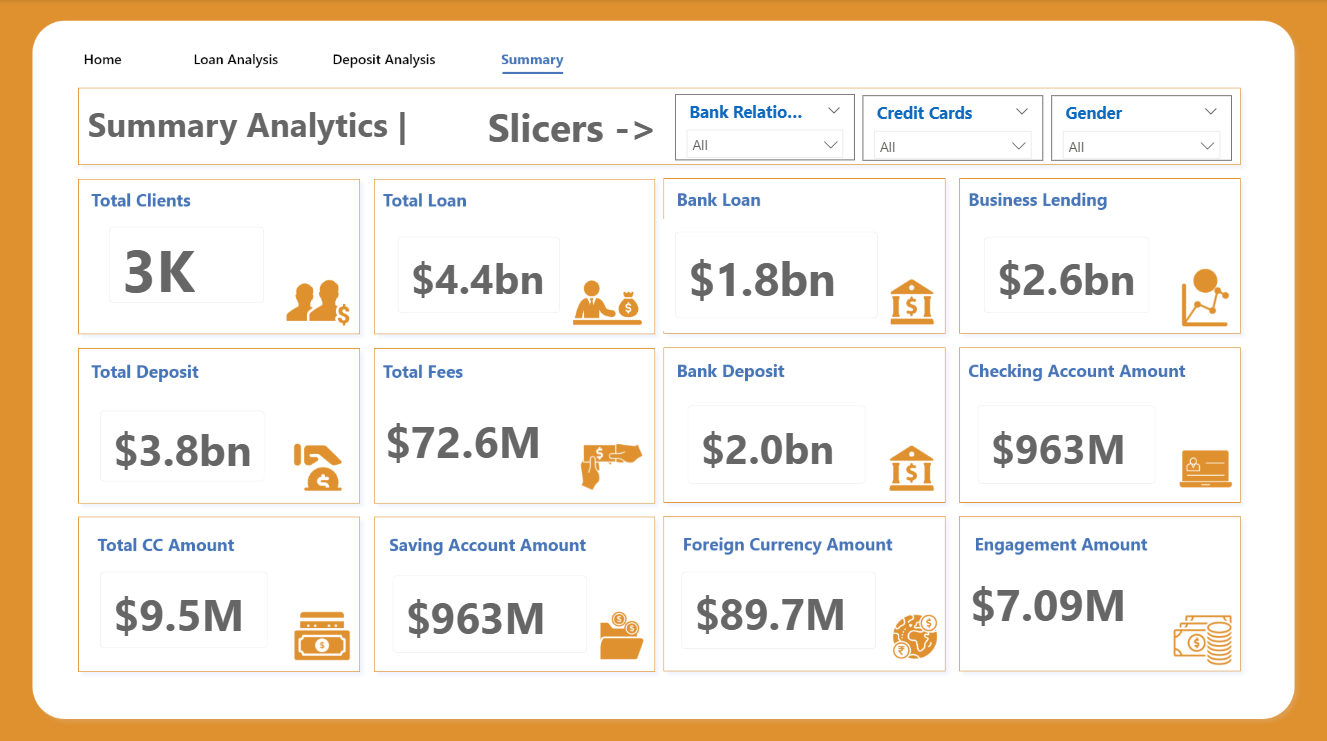

This screenshot's page, from the dashboard's own definition file:
{"tool":"powerbi","page":{"name":"Summary","canvas":[1280,720],"ordinal":3},"visuals":[{"type":"textbox","box":[79.2,94.3,386,61.6],"z":0},{"type":"textbox","box":[465.2,93,186.1,61.6],"z":1},{"type":"slicer","fields":{"Values":["project bank.Bank Relationship"]},"box":[651.3,91.8,173.5,64.1],"z":2},{"type":"slicer","fields":{"Values":["project bank.Amount of Credit Cards"]},"box":[832.4,93,174,62.9],"z":3},{"type":"slicer","fields":{"Values":["project bank.GenderId"]},"box":[1014.7,93,174,62.9],"z":4},{"type":"cardVisual","fields":{"Data":["CountNonNull(project bank.Name)"]},"box":[88,202.4,184.8,108.1],"z":5},{"type":"cardVisual","fields":{"Data":["project bank.Total Loan"]},"box":[367.2,212.5,191.1,108.1],"z":6},{"type":"cardVisual","fields":{"Data":["Sum(project bank.Bank Loans)"]},"box":[640,212.5,220,108.1],"z":7},{"type":"cardVisual","fields":{"Data":["Sum(project bank.Business Lending)"]},"box":[933,212.5,194.9,108.1],"z":8},{"type":"cardVisual","fields":{"Data":["project bank.Total Deposit"]},"box":[79.2,379.7,193.6,103.1],"z":9},{"type":"textbox","box":[367.2,392.3,181.1,90.5],"z":10},{"type":"cardVisual","fields":{"Data":["Sum(project bank.Bank Deposits)"]},"box":[651.3,379.7,196.1,100.6],"z":11},{"type":"cardVisual","fields":{"Data":["Sum(project bank.Checking Accounts)"]},"box":[931.7,379.7,196.1,100.6],"z":12},{"type":"cardVisual","fields":{"Data":["Sum(project bank.Credit Card Balance)"]},"box":[79.2,535.6,196.1,108.1],"z":13},{"type":"cardVisual","fields":{"Data":["Sum(project bank.Checking Accounts)"]},"box":[367.2,544.4,212.5,99.3],"z":14},{"type":"cardVisual","fields":{"Data":["Sum(project bank.Foreign Currency Account)"]},"box":[645,540.7,212.5,99.3],"z":15},{"type":"textbox","box":[931.1,548.9,180.4,90.2],"z":16},{"type":"actionButton","box":[54,38.6,100.1,39.8],"z":17},{"type":"actionButton","box":[183.1,38.6,100.1,39.8],"z":18},{"type":"actionButton","box":[325.5,38.6,100.1,39.8],"z":19}]}

Visuals, with their boxes in screenshot pixels (x1, y1, x2, y2), scaled from the page's 1280x720 canvas onto the 1327x741 screenshot:
textbox: bbox=(82, 97, 482, 160)
textbox: bbox=(482, 96, 675, 159)
slicer - project bank.Bank Relationship: bbox=(675, 94, 855, 160)
slicer - project bank.Amount of Credit Cards: bbox=(863, 96, 1043, 160)
slicer - project bank.GenderId: bbox=(1052, 96, 1232, 160)
cardVisual - CountNonNull(project bank.Name): bbox=(91, 208, 283, 320)
cardVisual - project bank.Total Loan: bbox=(381, 219, 579, 330)
cardVisual - Sum(project bank.Bank Loans): bbox=(664, 219, 892, 330)
cardVisual - Sum(project bank.Business Lending): bbox=(967, 219, 1169, 330)
cardVisual - project bank.Total Deposit: bbox=(82, 391, 283, 497)
textbox: bbox=(381, 404, 568, 497)
cardVisual - Sum(project bank.Bank Deposits): bbox=(675, 391, 879, 494)
cardVisual - Sum(project bank.Checking Accounts): bbox=(966, 391, 1169, 494)
cardVisual - Sum(project bank.Credit Card Balance): bbox=(82, 551, 285, 662)
cardVisual - Sum(project bank.Checking Accounts): bbox=(381, 560, 601, 662)
cardVisual - Sum(project bank.Foreign Currency Account): bbox=(669, 556, 889, 659)
textbox: bbox=(965, 565, 1152, 658)
actionButton: bbox=(56, 40, 160, 81)
actionButton: bbox=(190, 40, 294, 81)
actionButton: bbox=(337, 40, 441, 81)
